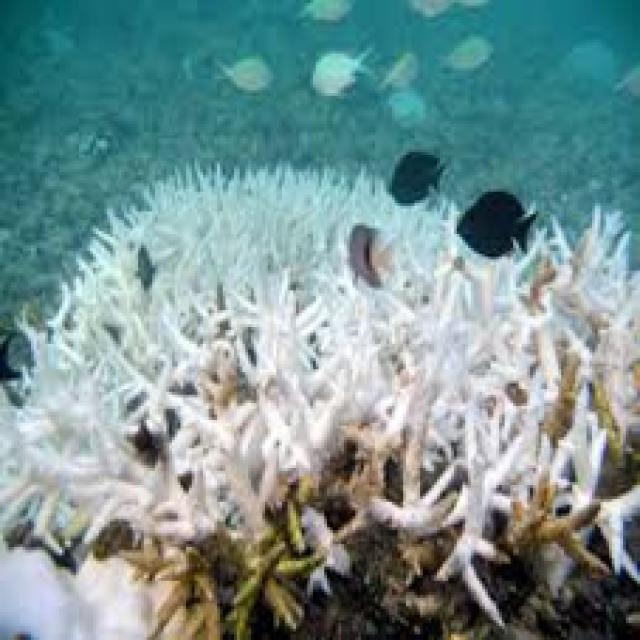Bleached: (1, 384, 300, 534), (266, 350, 561, 480), (292, 248, 576, 348), (154, 165, 346, 311), (30, 304, 287, 401), (1, 542, 186, 640), (567, 226, 640, 404), (376, 429, 458, 537), (448, 480, 501, 612), (74, 222, 142, 311), (375, 202, 465, 264), (556, 403, 607, 511), (597, 487, 640, 579), (301, 514, 337, 596), (333, 181, 393, 229)
Healthy: (220, 541, 316, 630), (505, 483, 595, 571), (150, 544, 223, 640), (547, 356, 582, 444), (598, 392, 627, 467), (122, 549, 177, 579), (282, 502, 308, 551), (533, 260, 560, 307)
